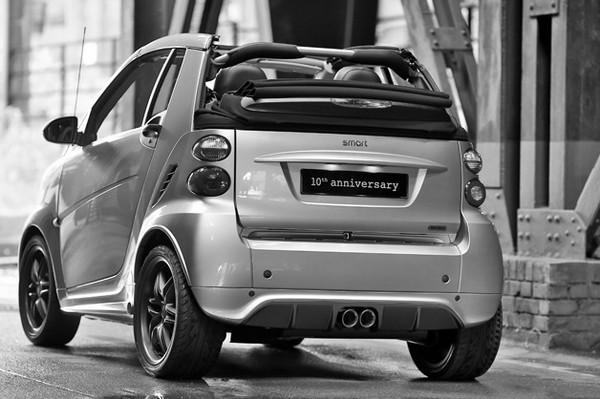car: (14, 22, 511, 388)
